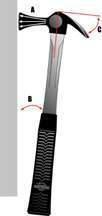hammer: (16, 9, 90, 215)
